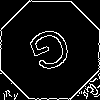G: (25, 25, 79, 82)
